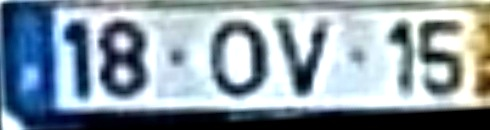1: (57, 17, 98, 108), (382, 19, 419, 104)
5: (418, 20, 472, 103)
8: (94, 15, 156, 105)
O: (209, 16, 274, 103)
V: (270, 16, 343, 105)
